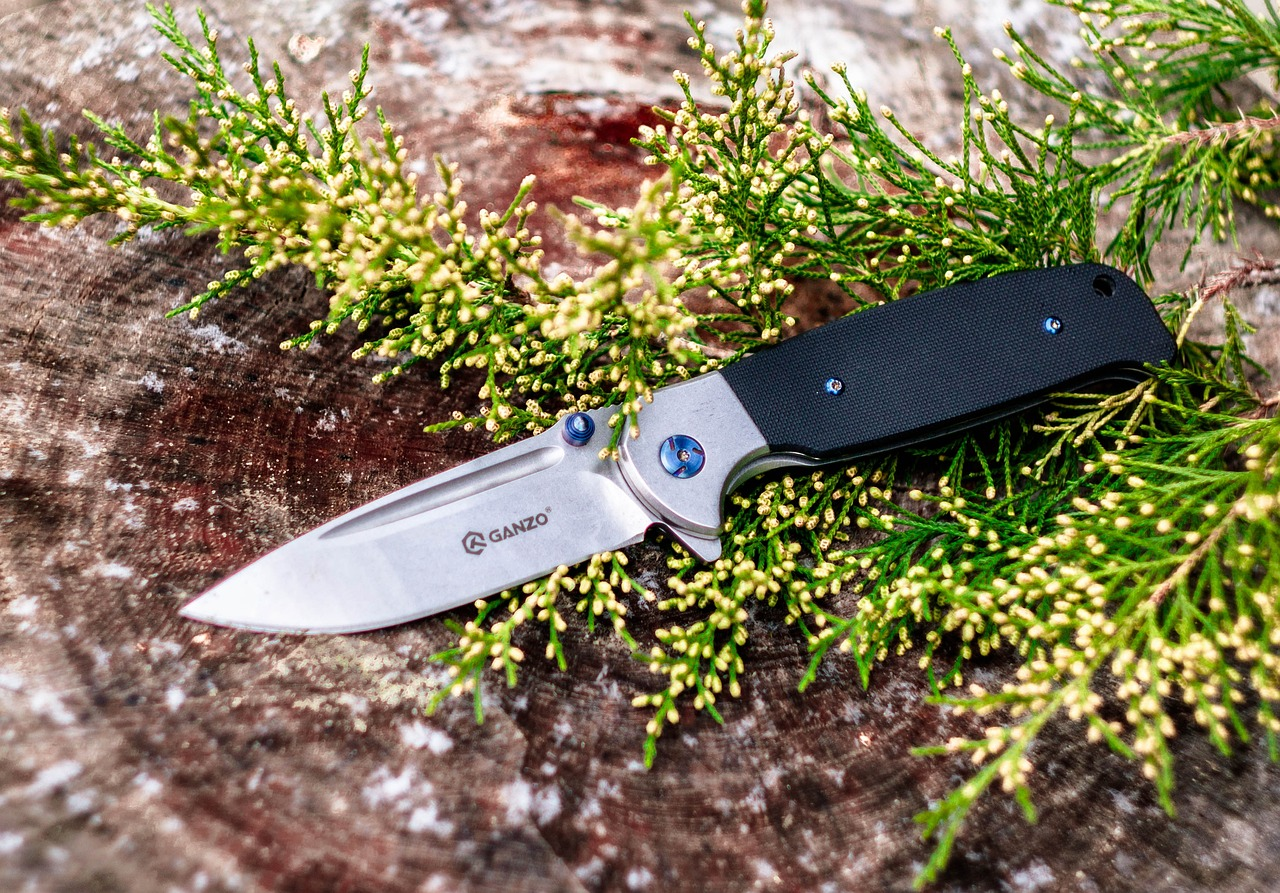knife: (171, 251, 1183, 642)
